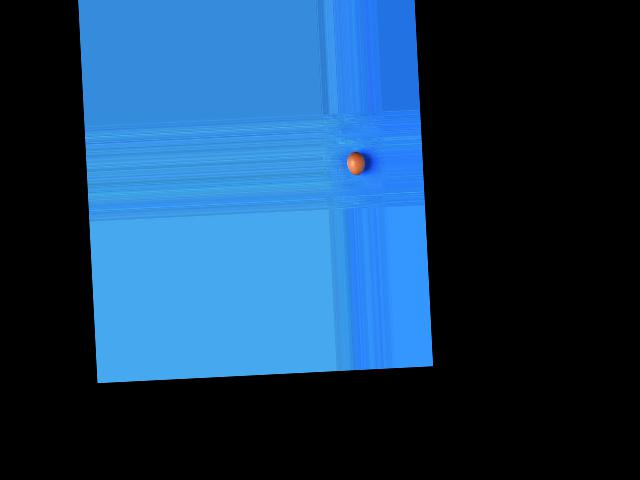egg: (346, 151, 366, 175)
